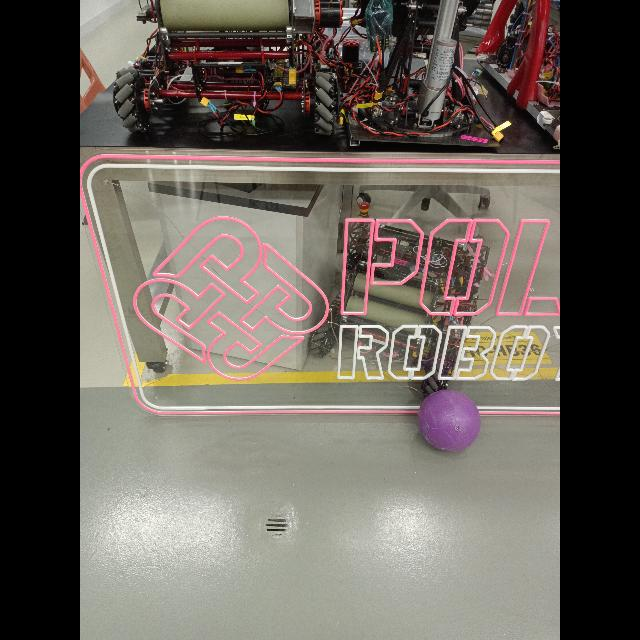P: (414, 388, 486, 456)
